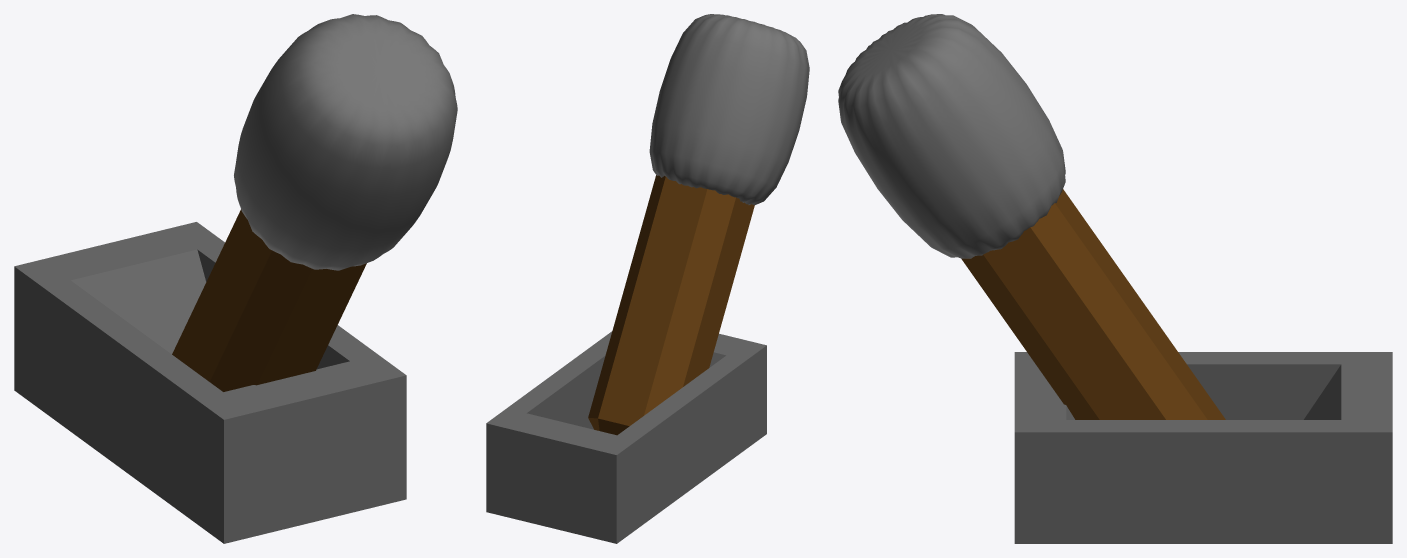
Rendered from lever2.fbx.
3 renders of one model, left to right at view 1: azimuth 30°, elevation 25°; view 2: azimuth 150°, elevation 25°; view 3: azimuth 270°, elevation 25°, orthographic. The views are drawn at different scales.
Visible parts, largest first — view 1: pasted__pasted__polySurface4; view 2: pasted__pasted__polySurface4; view 3: pasted__pasted__polySurface4.
Part boxes in pixels (x1,y1,x2,y2): pasted__pasted__polySurface4: (14, 14, 457, 543); pasted__pasted__polySurface4: (486, 14, 809, 543); pasted__pasted__polySurface4: (838, 14, 1392, 543).
Size of the model in its own units: 3.53 by 9.75 by 10.27.
